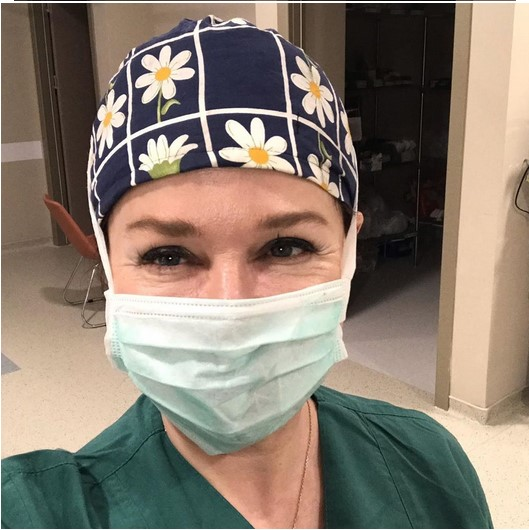face_with_mask: (87, 14, 367, 460)
